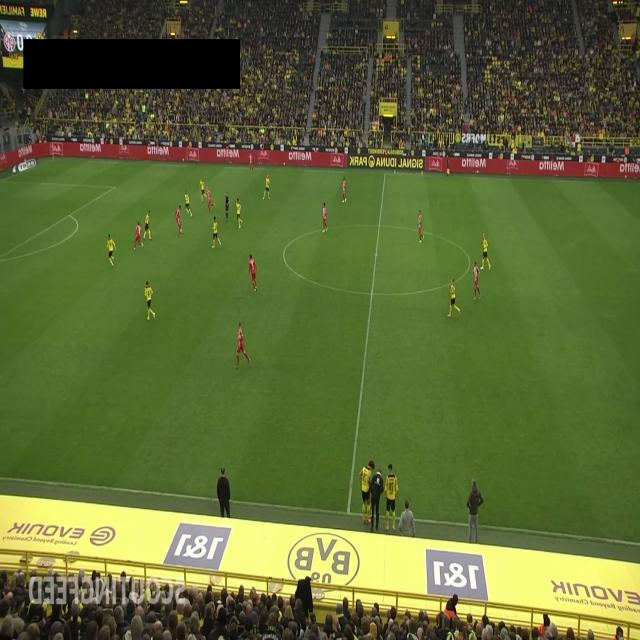ball: (180, 228, 182, 236)
player: (359, 459, 375, 525), (384, 464, 399, 532), (234, 322, 251, 368), (447, 277, 461, 318), (144, 280, 156, 321), (480, 233, 491, 271), (472, 261, 482, 300), (248, 254, 258, 292), (105, 233, 116, 267), (133, 221, 144, 251), (212, 216, 222, 248), (143, 209, 152, 241), (206, 186, 216, 213), (262, 172, 271, 200), (417, 210, 424, 243), (184, 190, 192, 218), (175, 204, 182, 236), (236, 197, 242, 229), (322, 202, 328, 233), (248, 149, 254, 175), (200, 177, 206, 202), (342, 176, 346, 203)
referee: (225, 190, 230, 222), (446, 154, 452, 178)
